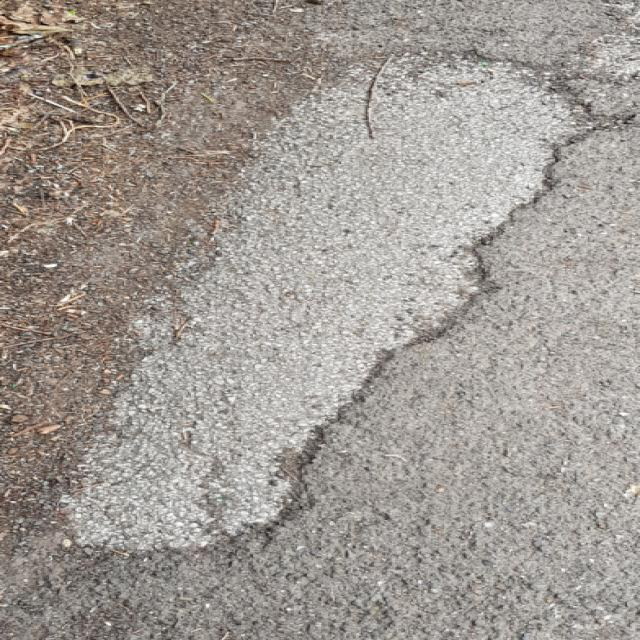pothole: (11, 44, 614, 559)
